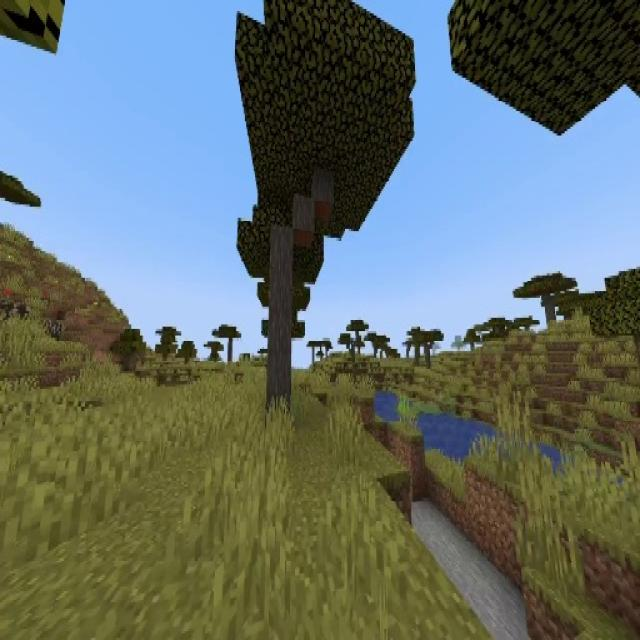acacia: (230, 0, 415, 422)
acacia_log: (268, 228, 292, 416), (292, 197, 313, 237), (312, 172, 332, 208)
